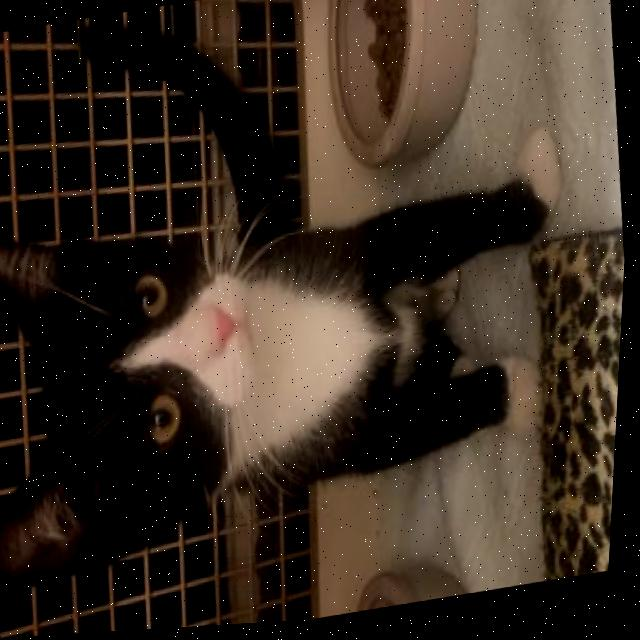Tuxedo: (0, 0, 609, 598)
